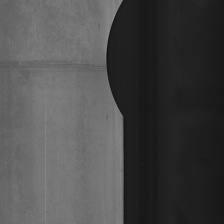crescent_gap: (103, 0, 142, 124), (0, 54, 106, 81)
